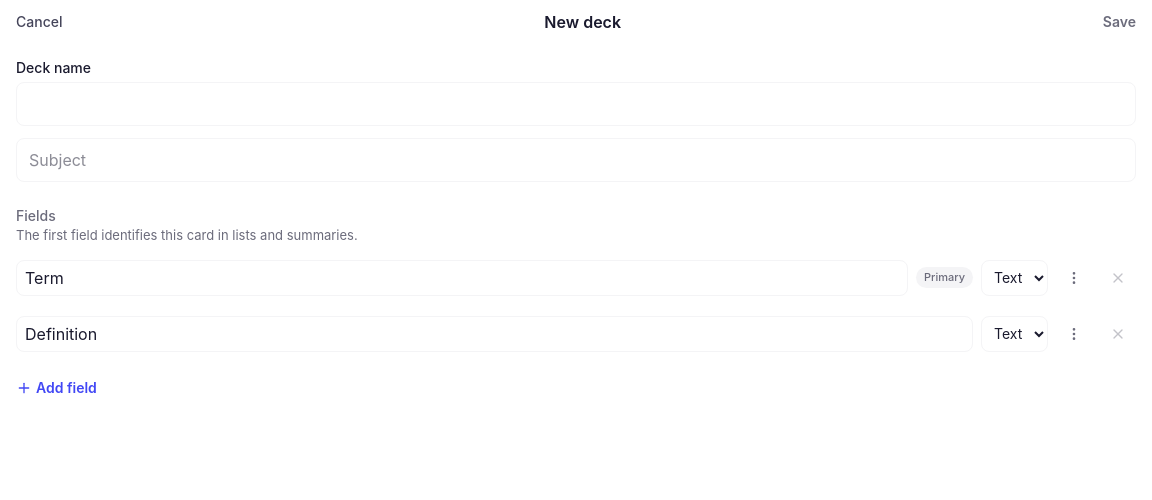
Test: DeckEditor — create mode › adding a third field re-enables remove; removing back down to two disables both again
The image size is (1152, 500).
Expected: the field showing "Term" next to "Primary" is shown, [16, 260, 908, 296]
Click the button "Add field" at (56, 388), box [16, 370, 97, 406]
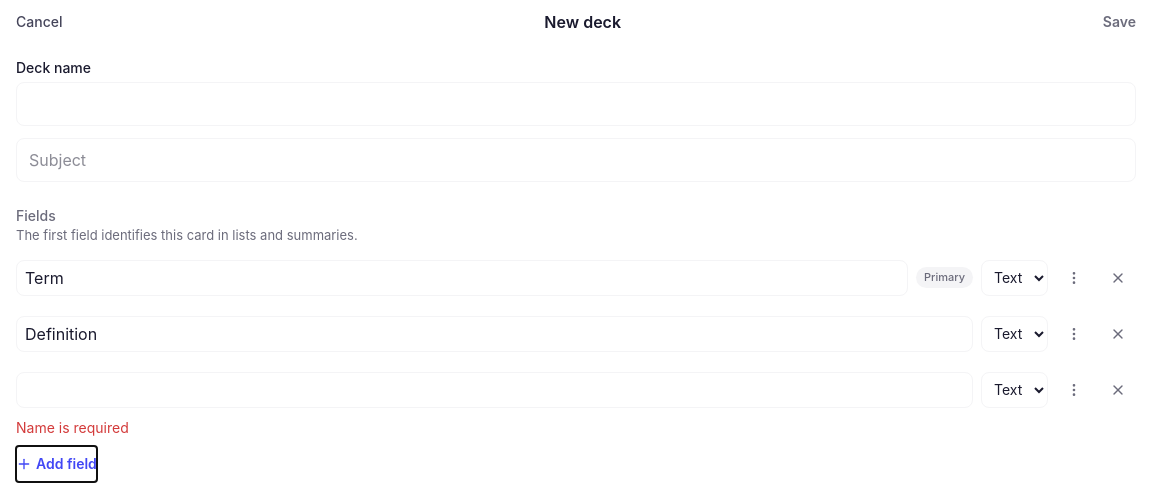
Now the button named "Remove Term" is enabled
Click the button named "Remove Term" at (1118, 278), box [1100, 260, 1136, 296]
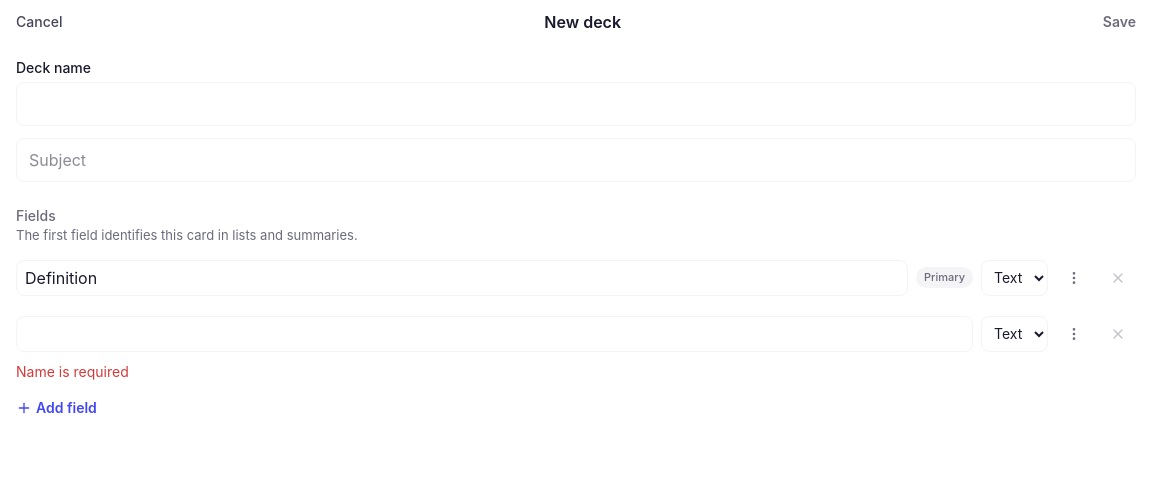
Now the button named "Remove Definition" is disabled, box [1100, 260, 1136, 296]
